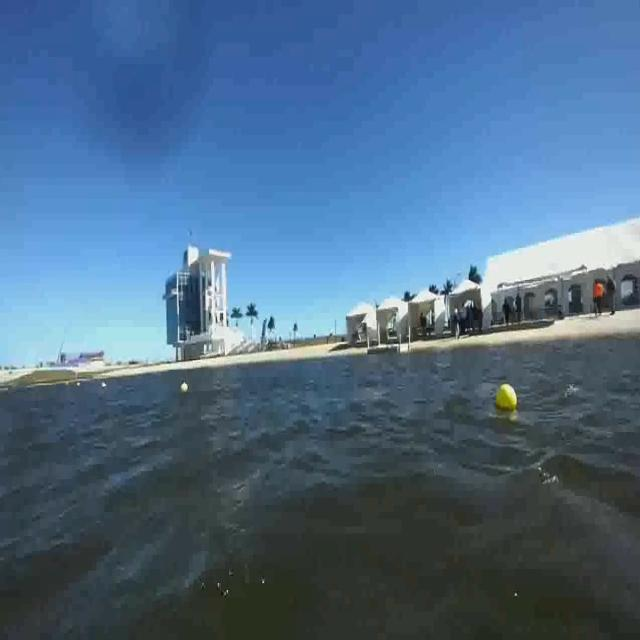yellow-buoy: (496, 380, 518, 409), (179, 380, 190, 396)
